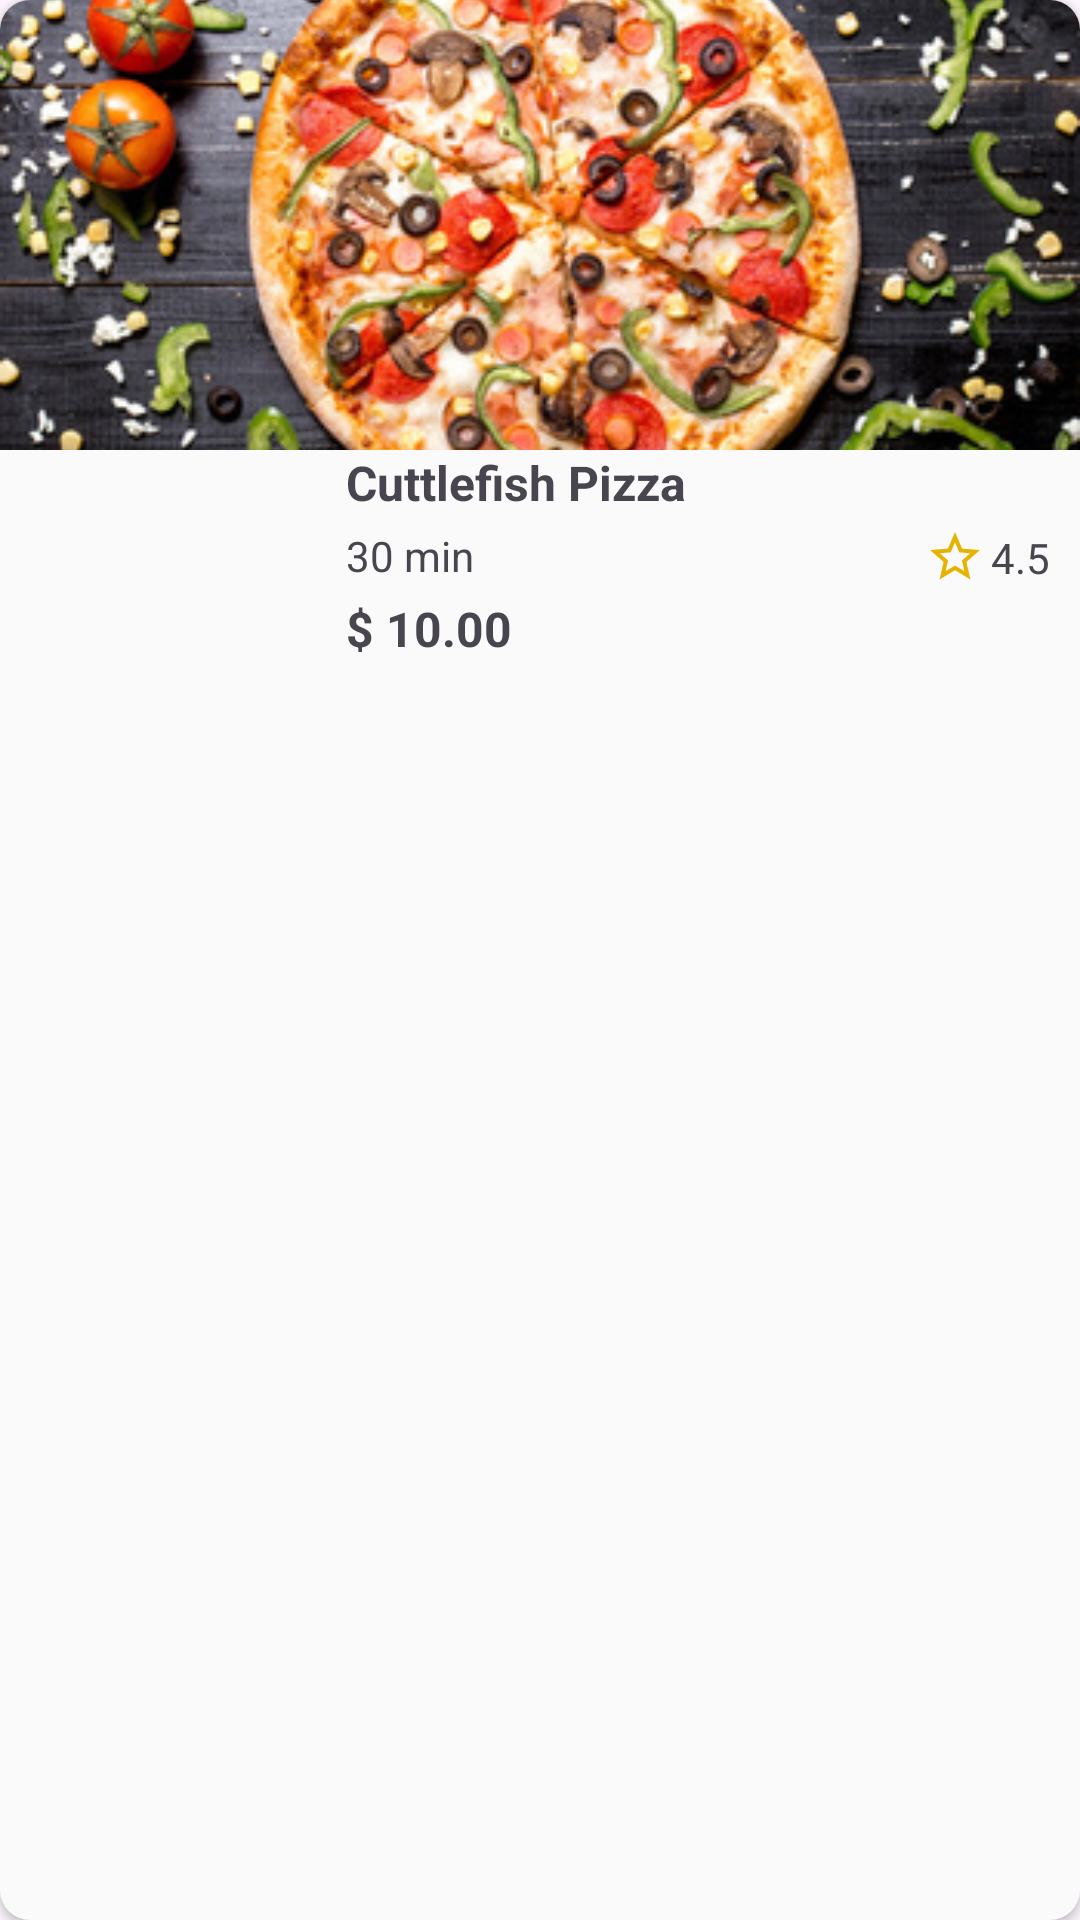

Icons on this 1080x1920 Android screen, each with the point to tap as (x=x, y=y):
star border: (x=955, y=556)
